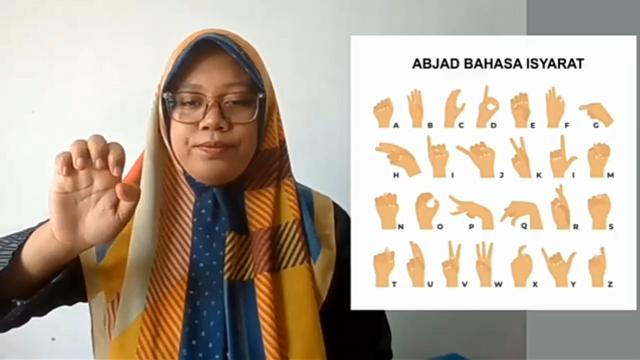E: (46, 132, 144, 244)
